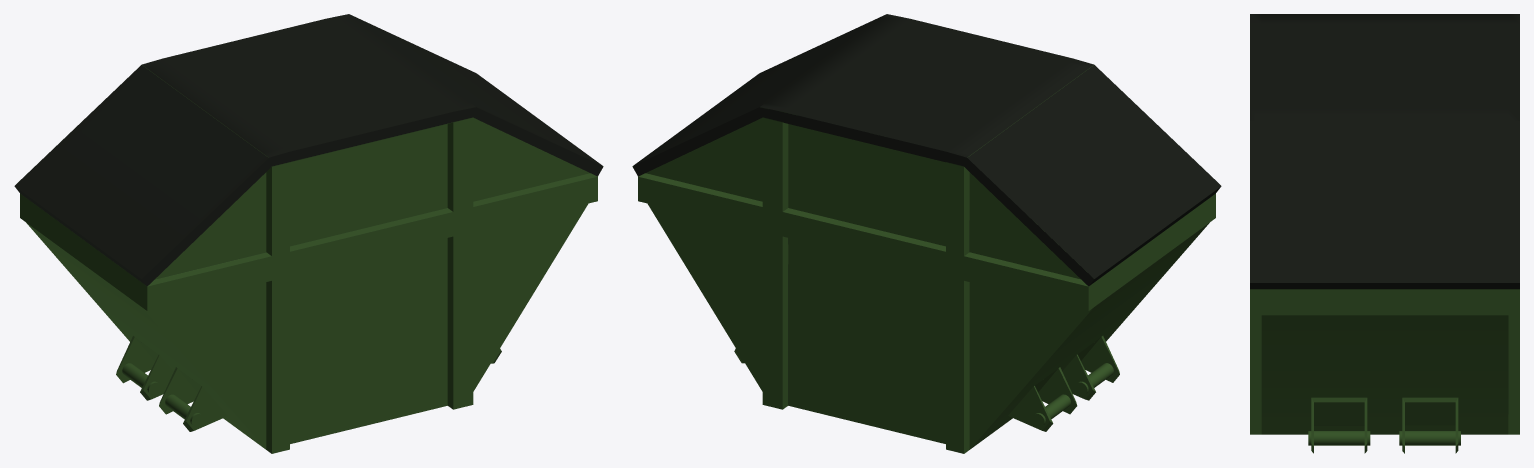
File: Construction_dumpster.fbx
The picture shows the model from 3 angles, left to right: view 1: azimuth 30°, elevation 25°; view 2: azimuth 150°, elevation 25°; view 3: azimuth 270°, elevation 25°; orthographic projection. The views are drawn at different scales.
Visible parts, largest first — view 1: pCube65, group2_pCylinder45, group3_pCylinder45; view 2: pCube65, group3_pCylinder45, group2_pCylinder45; view 3: pCube65, group2_pCylinder45, group3_pCylinder45.
Boxes of the visible parts, box(x1,y1,x2,y2) form: pCube65: box(14, 14, 603, 453); group2_pCylinder45: box(159, 349, 501, 431); group3_pCylinder45: box(116, 336, 173, 400); pCube65: box(632, 14, 1221, 453); group3_pCylinder45: box(734, 348, 1077, 431); group2_pCylinder45: box(1062, 336, 1119, 400); pCube65: box(1250, 14, 1519, 434); group2_pCylinder45: box(1308, 397, 1370, 453); group3_pCylinder45: box(1399, 397, 1460, 453).
Bounding box in the file's own units: 1.3 × 0.7986 × 0.6181.
